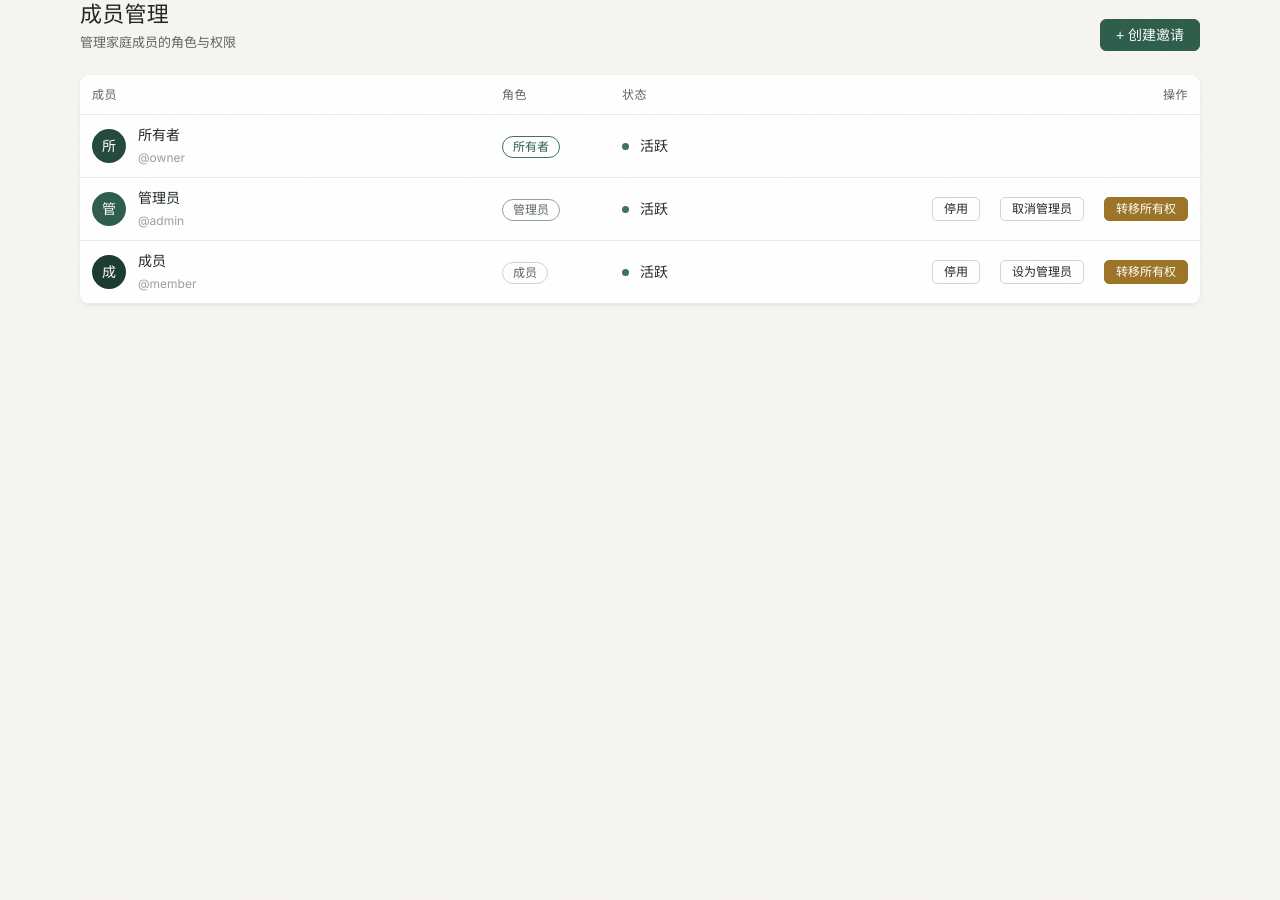
Scenario: MembersPage › lists members and allows owner to create an invitation
Step 1. Click the button with test id "create-invite" → (1150, 35), box [1100,19,1200,51]
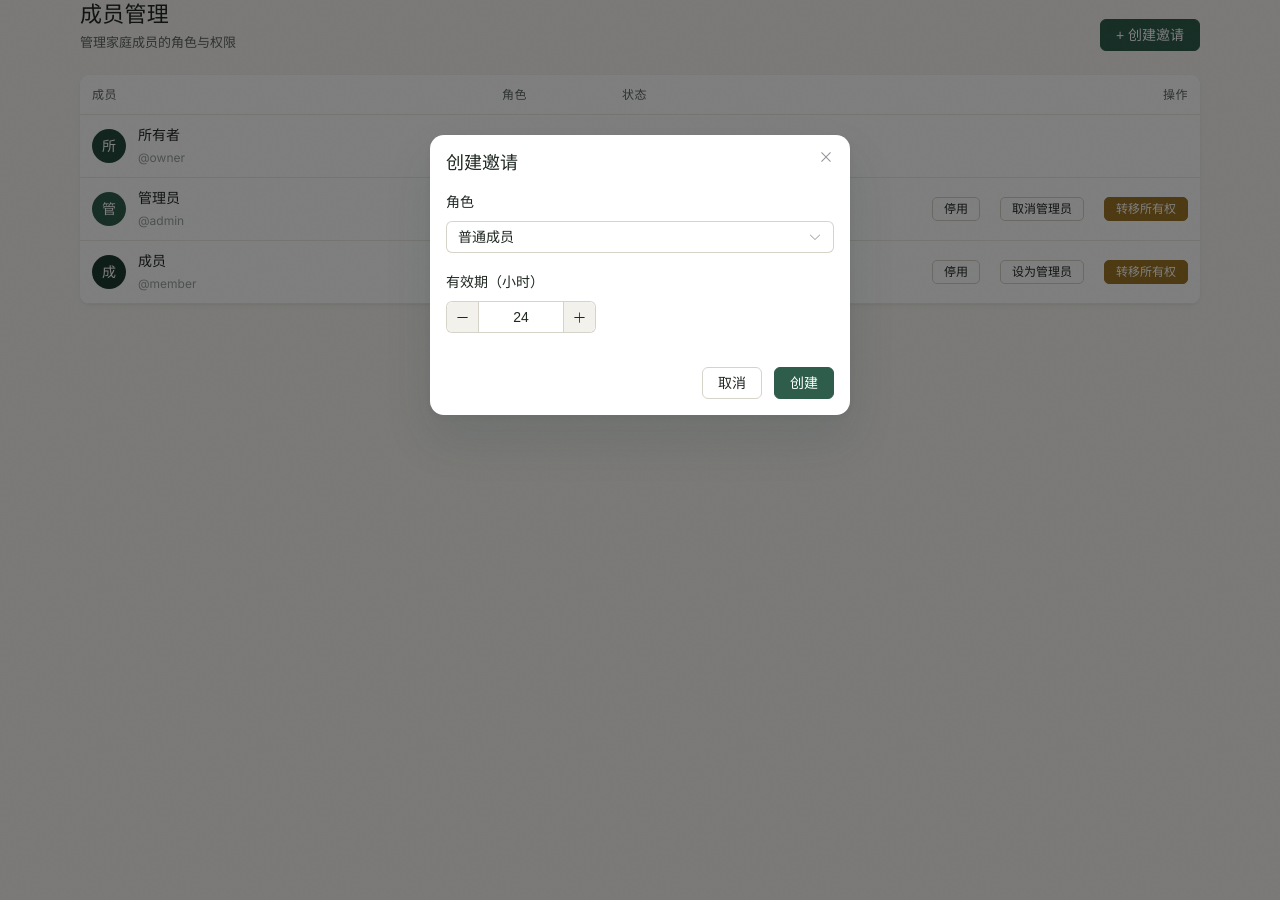
Step 2. Click the button with test id "confirm-invite" → (804, 383), box [774,367,834,399]
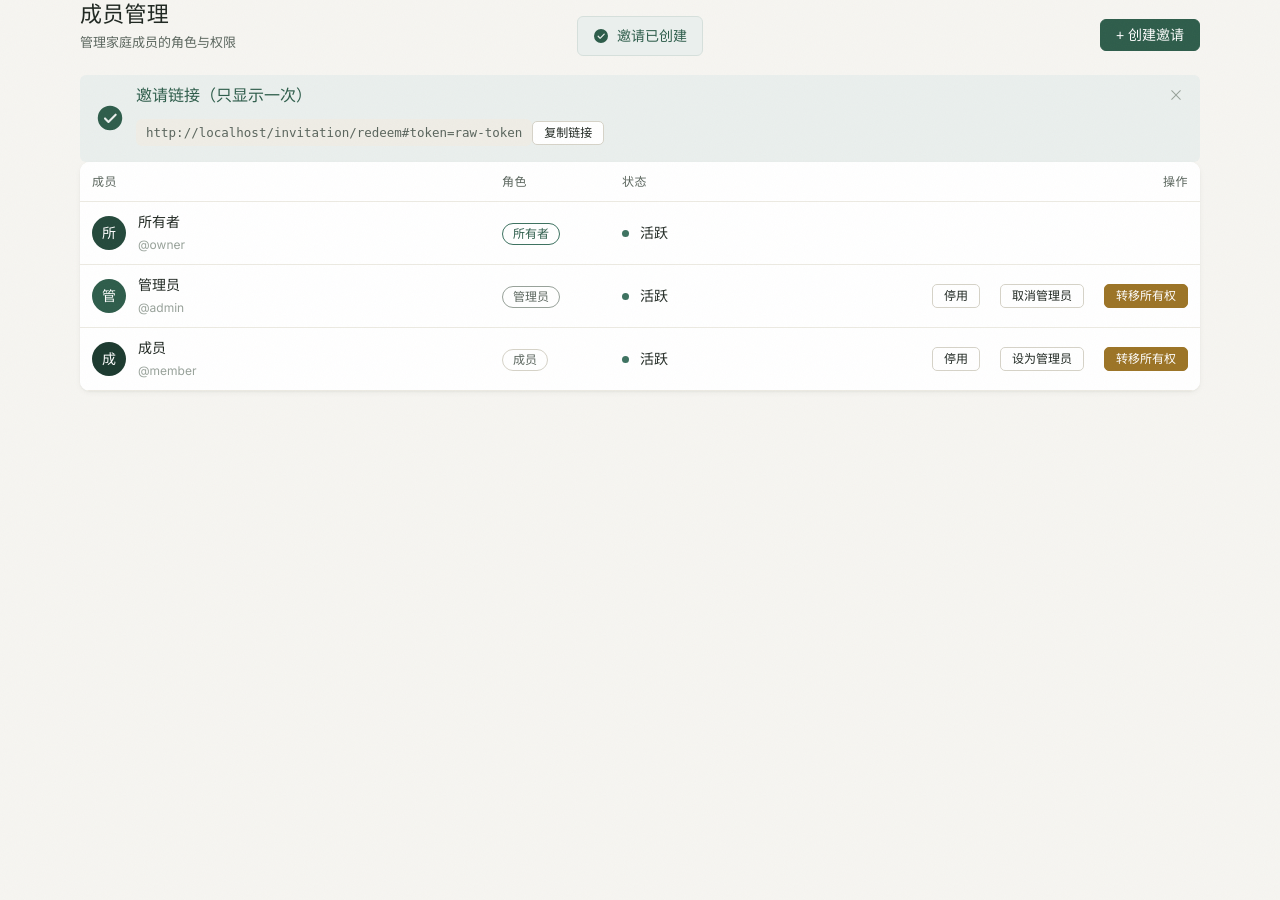
Result: the text "/invitation/redeem#token=raw-token" is shown at [146,125,522,140]
